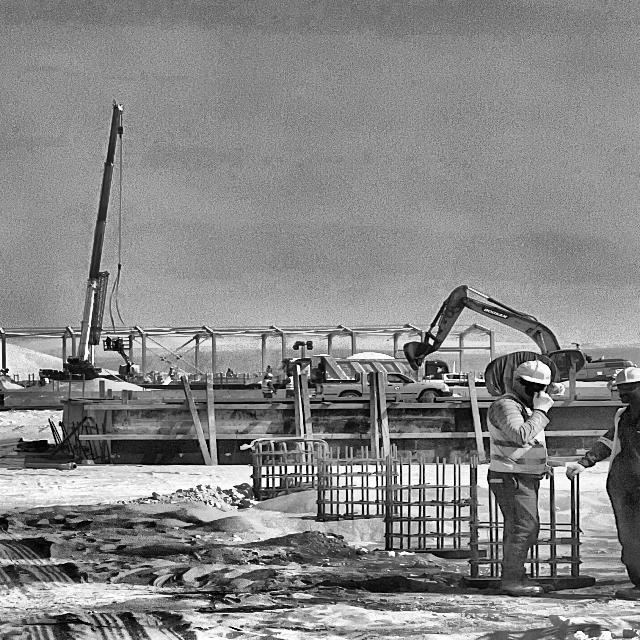excavator: (404, 276, 632, 390)
